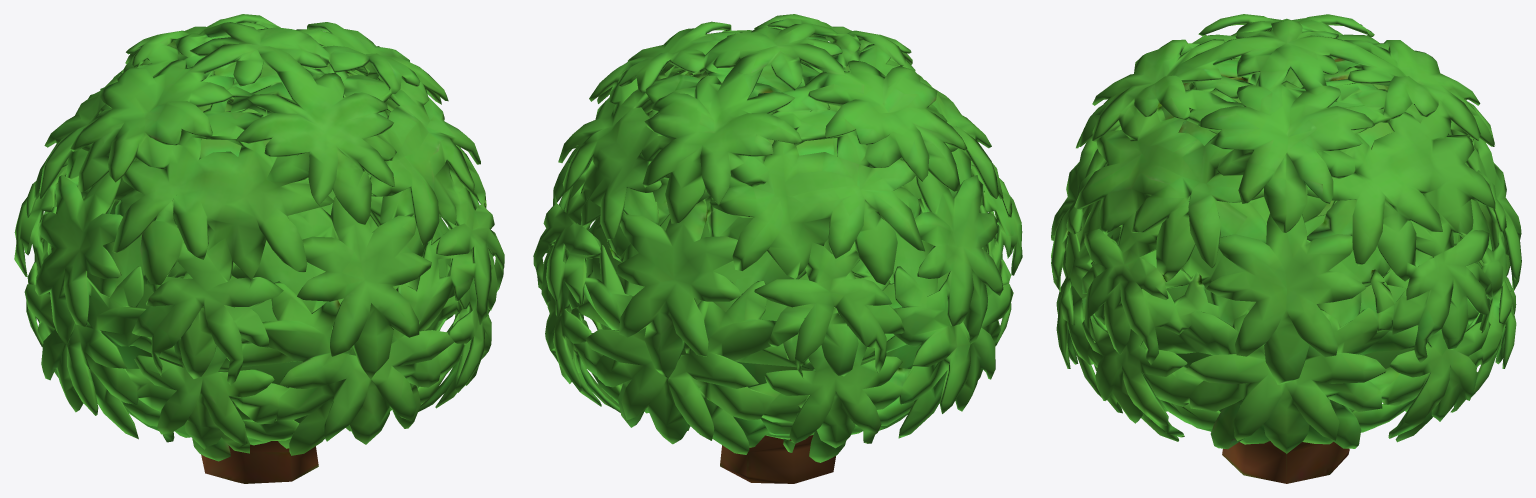
Rendered from bush.glb.
3 views of the same model, side by side, from view 1: azimuth 30°, elevation 25°; view 2: azimuth 150°, elevation 25°; view 3: azimuth 270°, elevation 25° (orthographic).
Parts seen in each view (by area): view 1: Mesh_0; view 2: Mesh_0; view 3: Mesh_0.
Boxes of the visible parts, x1,y1,x2,y2 form: Mesh_0: (14,14,504,483); Mesh_0: (533,14,1022,483); Mesh_0: (1051,14,1521,483).
Size of the model in its own units: 1.9 by 1.86 by 1.9.
Materials: 1 (1 with a texture image).
